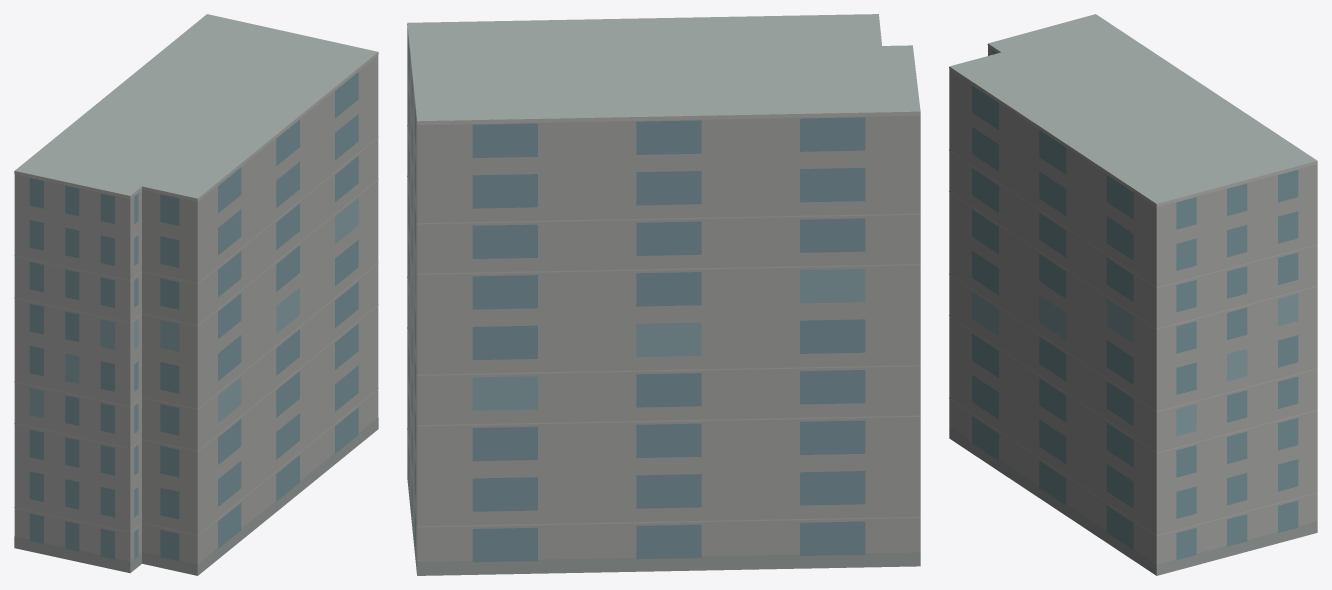
File: survey-upis-32694697.glb
3 renders of one model, left to right at view 1: azimuth 30°, elevation 25°; view 2: azimuth 150°, elevation 25°; view 3: azimuth 270°, elevation 25°, orthographic. The views are drawn at different scales.
Visible parts, largest first — view 1: survey-upis-32694697.tmp; view 2: survey-upis-32694697.tmp; view 3: survey-upis-32694697.tmp.
Part boxes in pixels (box(x1,y1,x2,y2)): survey-upis-32694697.tmp: box(14, 14, 378, 575); survey-upis-32694697.tmp: box(407, 14, 920, 575); survey-upis-32694697.tmp: box(949, 14, 1317, 575).
Size of the model in its own units: 30.91 by 28.2 by 25.34.
